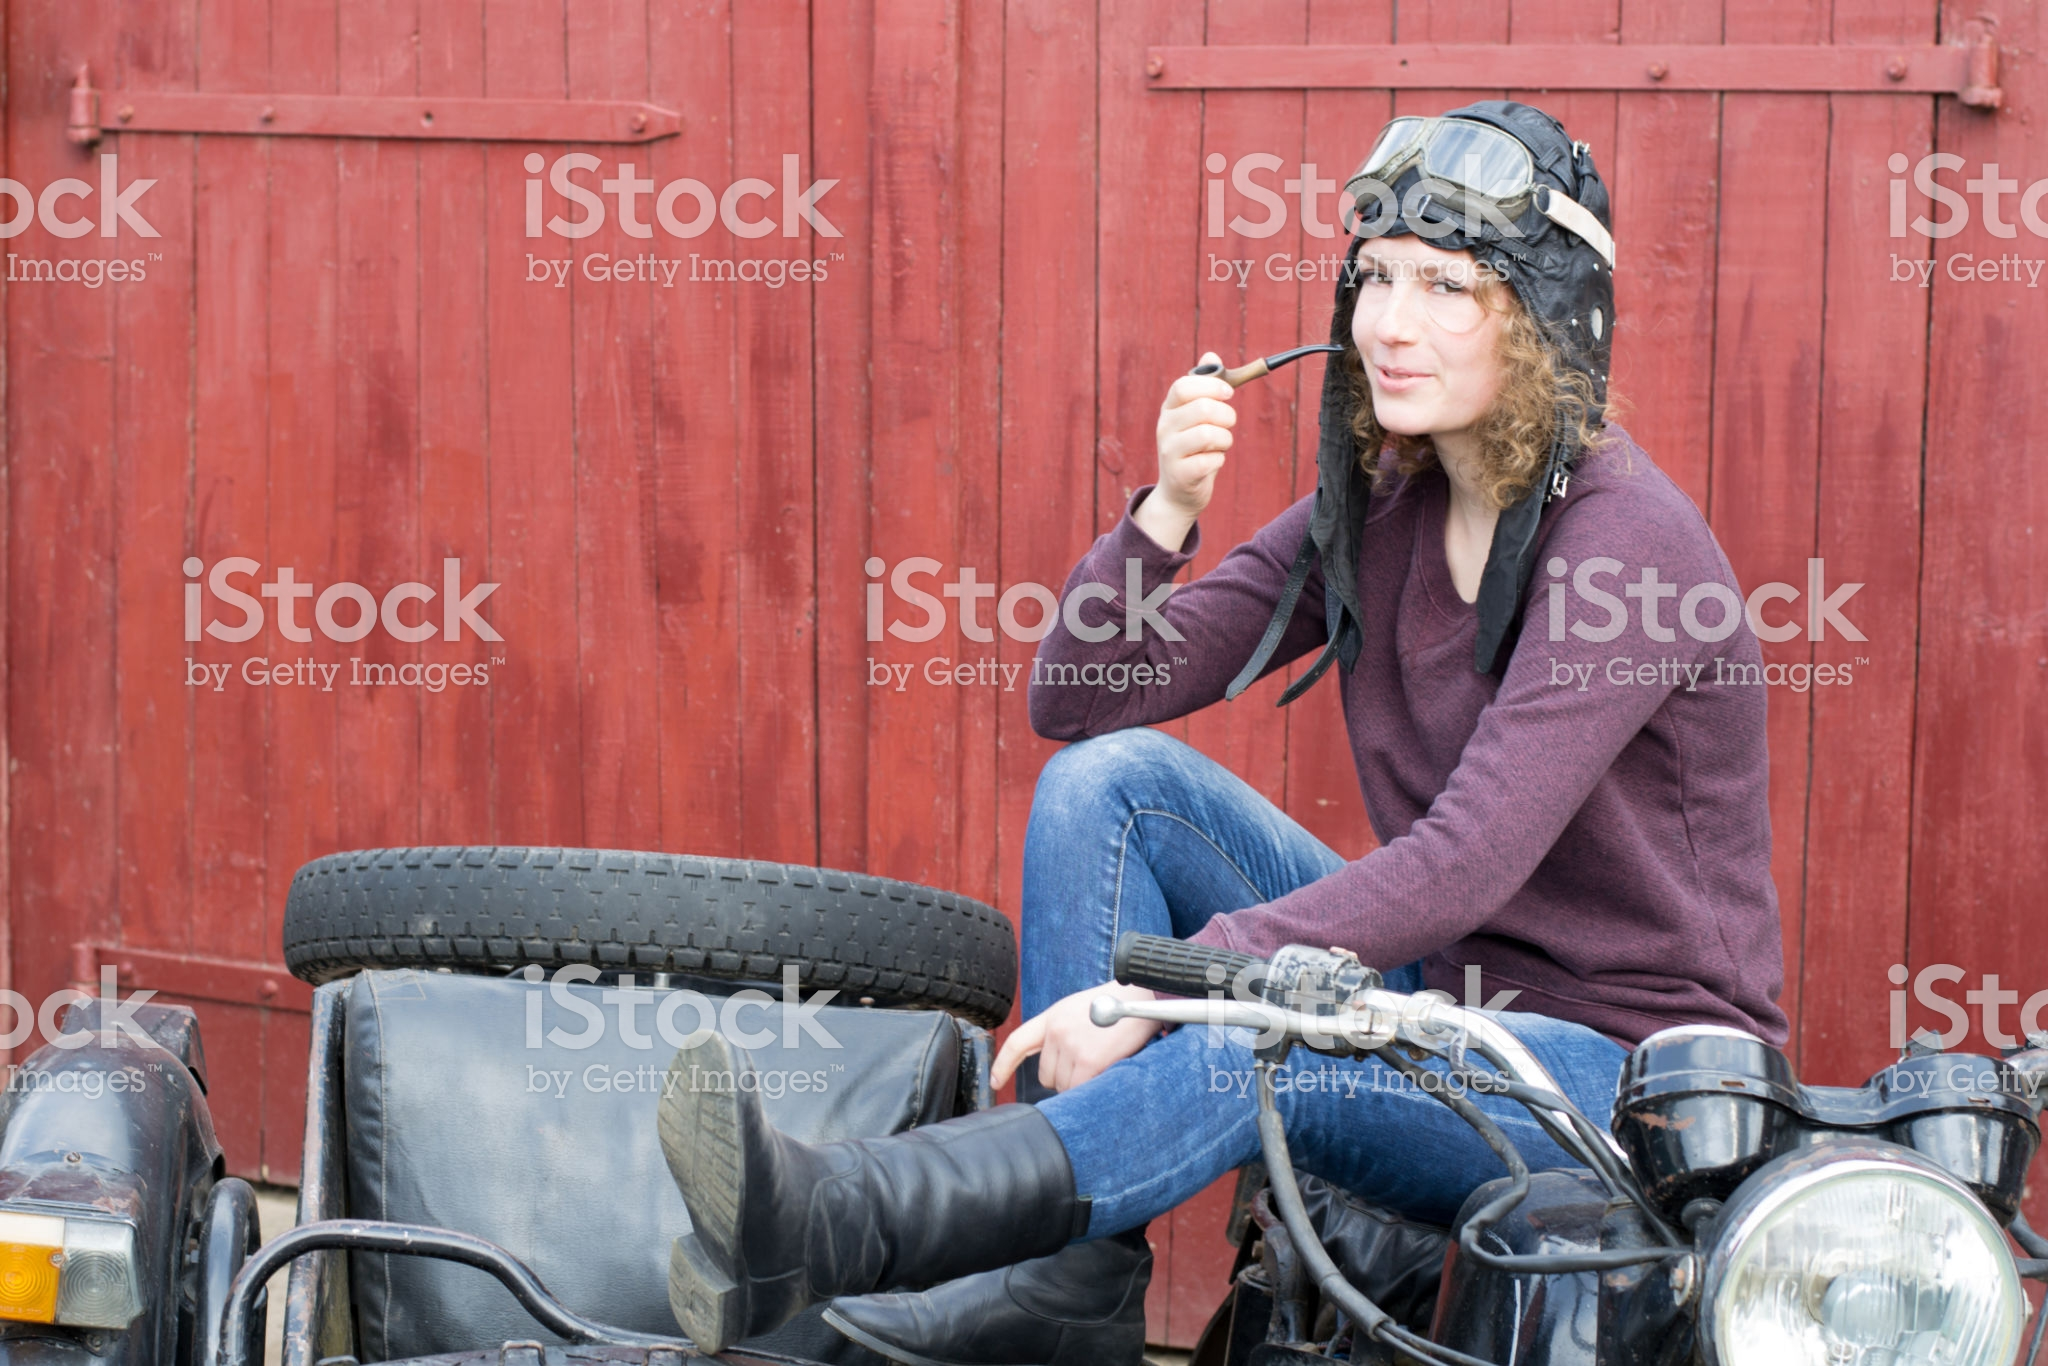helmet: (1346, 88, 1637, 396)
